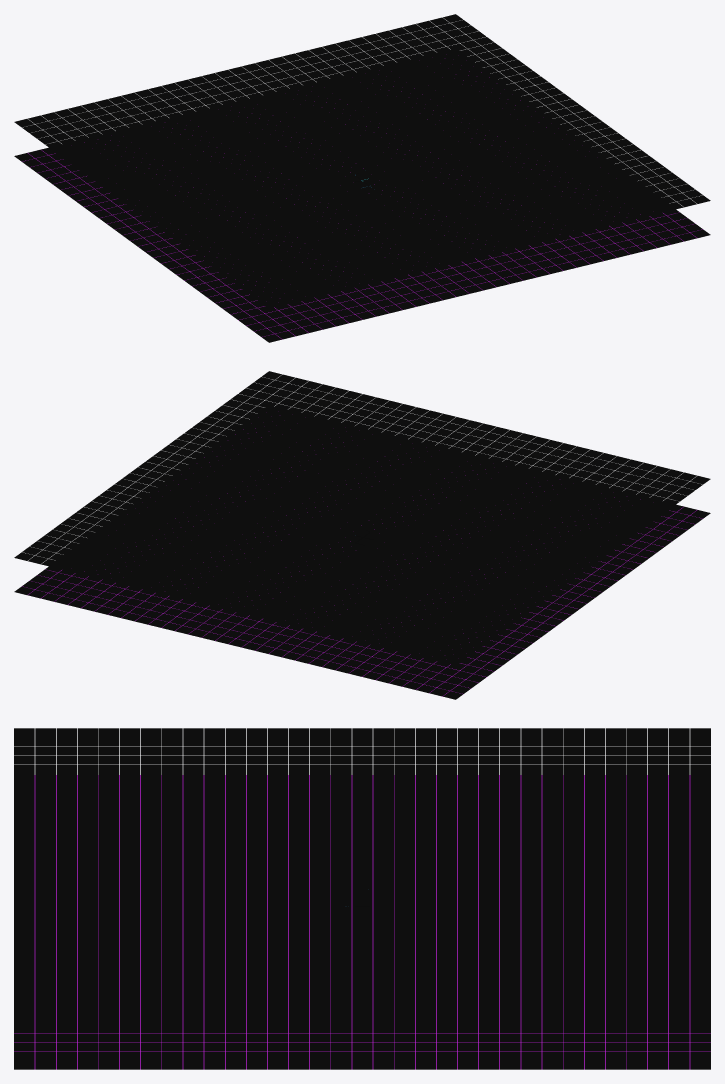
The model's file is computer.gltf.
3 views of the same model, one above another, from view 1: azimuth 30°, elevation 25°; view 2: azimuth 150°, elevation 25°; view 3: azimuth 270°, elevation 25° (orthographic). The views are drawn at different scales.
Visible parts, largest first — view 1: Plane.001, Plane; view 2: Plane.001, Plane; view 3: Plane.001, Plane.
Part boxes in pixels (bbox=[...]): Plane.001: bbox=[14, 14, 710, 308]; Plane: bbox=[14, 50, 710, 342]; Plane.001: bbox=[14, 371, 710, 665]; Plane: bbox=[14, 407, 710, 699]; Plane.001: bbox=[14, 728, 710, 1022]; Plane: bbox=[14, 775, 710, 1069].
Bounding box in the file's own units: 93.84 × 6.93 × 93.84.
